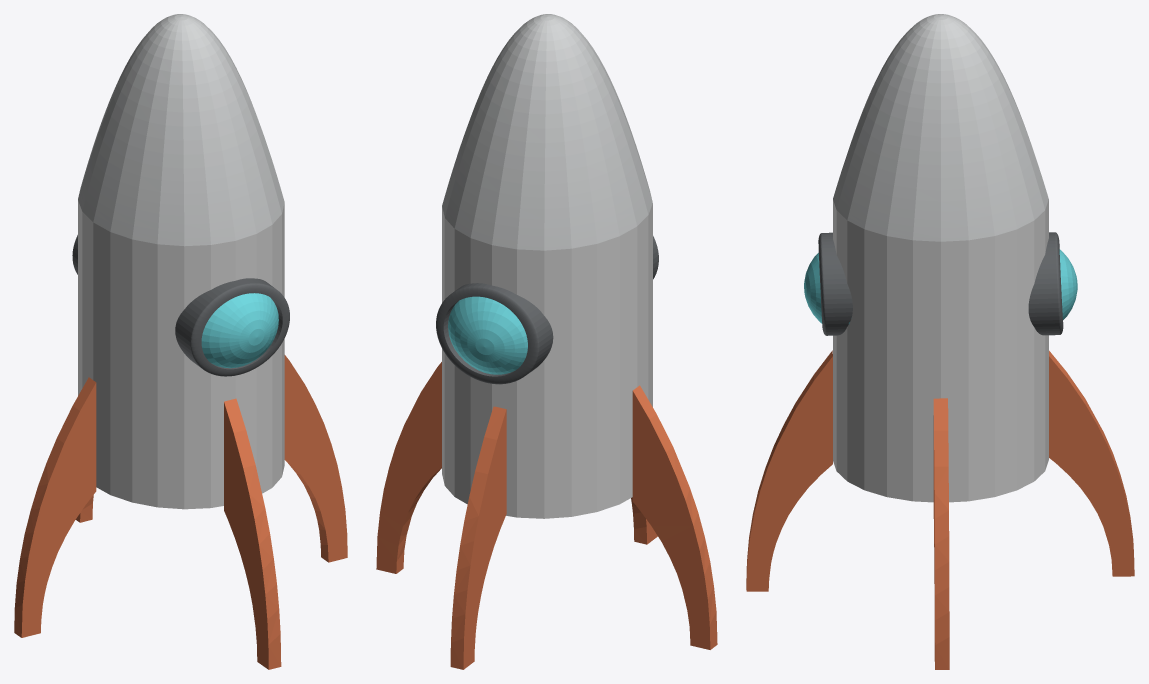
File: Rocket2.glb
3 renders of one model, left to right at view 1: azimuth 30°, elevation 25°; view 2: azimuth 150°, elevation 25°; view 3: azimuth 270°, elevation 25°, orthographic. The views are drawn at different scales.
Visible parts, largest first — view 1: Mesh_Mesh_head_geo.001_lambert2SG.001; view 2: Mesh_Mesh_head_geo.001_lambert2SG.001; view 3: Mesh_Mesh_head_geo.001_lambert2SG.001.
Boxes of the visible parts, left/top/right/bottom form: Mesh_Mesh_head_geo.001_lambert2SG.001: left=14, top=14, right=347, bottom=669; Mesh_Mesh_head_geo.001_lambert2SG.001: left=376, top=14, right=717, bottom=669; Mesh_Mesh_head_geo.001_lambert2SG.001: left=746, top=14, right=1134, bottom=669.
Bounding box in the file's own units: 26.02 × 44 × 26.97.
